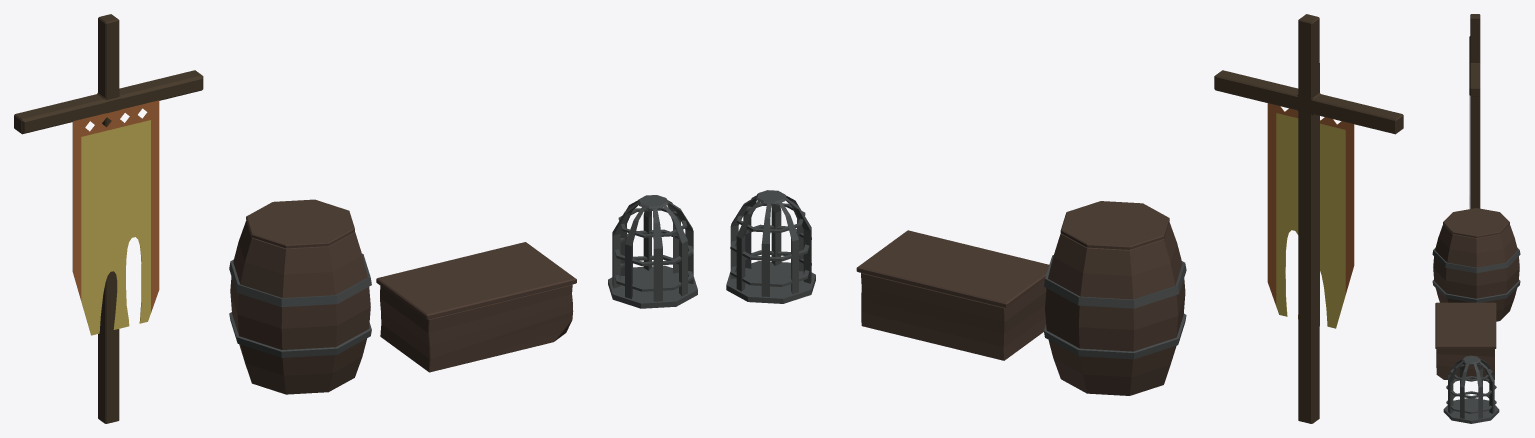
Rendered from Cage_Box_Barrel_Banner.fbx.
The picture shows the model from 3 angles, left to right: view 1: azimuth 30°, elevation 25°; view 2: azimuth 150°, elevation 25°; view 3: azimuth 270°, elevation 25°; orthographic projection. The views are drawn at different scales.
Parts seen in each view (by area): view 1: Banner, Barrel, Box, Cage; view 2: Banner, Barrel, Box, Cage; view 3: Barrel, Box, Cage, Banner.
Boxes of the visible parts, left/top/right/bottom form: Banner: left=14, top=14, right=203, bottom=423; Barrel: left=229, top=199, right=371, bottom=394; Box: left=376, top=242, right=576, bottom=372; Cage: left=608, top=195, right=697, bottom=308; Banner: left=1214, top=14, right=1403, bottom=423; Barrel: left=1044, top=201, right=1186, bottom=395; Box: left=856, top=230, right=1049, bottom=360; Cage: left=726, top=190, right=815, bottom=303; Barrel: left=1432, top=208, right=1520, bottom=321; Box: left=1435, top=302, right=1496, bottom=379; Cage: left=1443, top=355, right=1499, bottom=423; Banner: left=1469, top=14, right=1480, bottom=208.
Size of the model in its own units: 49.71 by 28.35 by 9.46.
